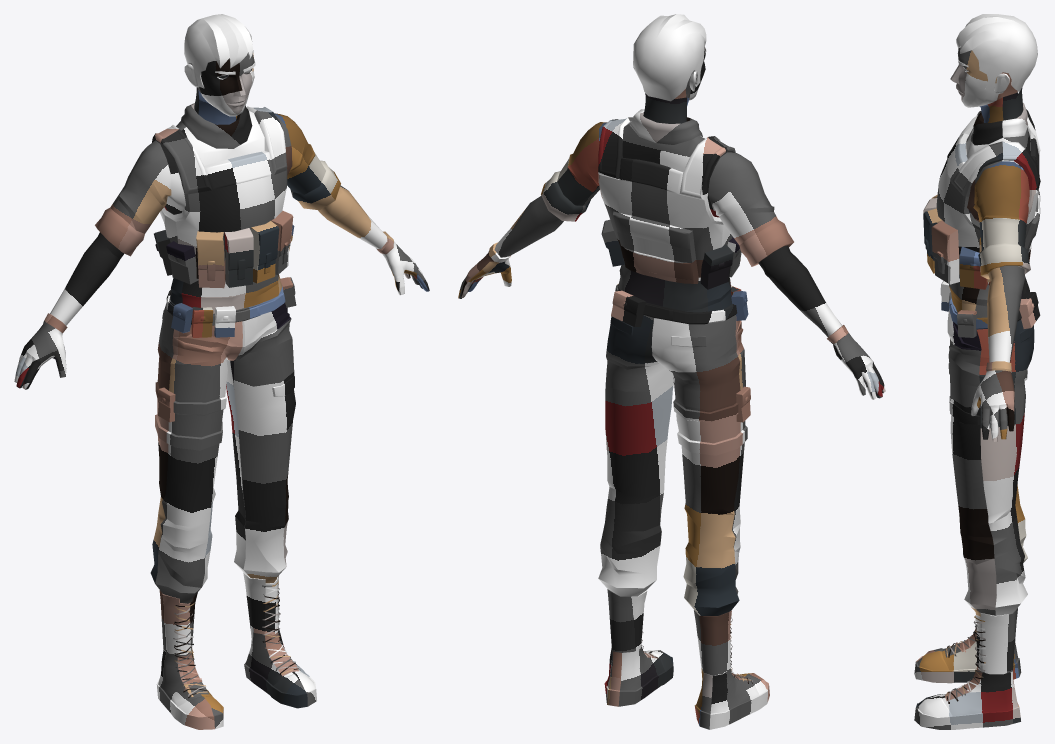
The model's file is male 3.fbx.
3 views of the same model, side by side, from view 1: azimuth 30°, elevation 25°; view 2: azimuth 150°, elevation 25°; view 3: azimuth 270°, elevation 25° (orthographic). The views are drawn at different scales.
Parts seen in each view (by area): view 1: 1743; view 2: 1743; view 3: 1743.
Part boxes in pixels (x1=…): 1743: x1=14, y1=14, x2=429, y2=729; 1743: x1=458, y1=14, x2=885, y2=729; 1743: x1=914, y1=14, x2=1040, y2=729.
Bounding box in the file's own units: 1.17 × 1.84 × 0.309.
